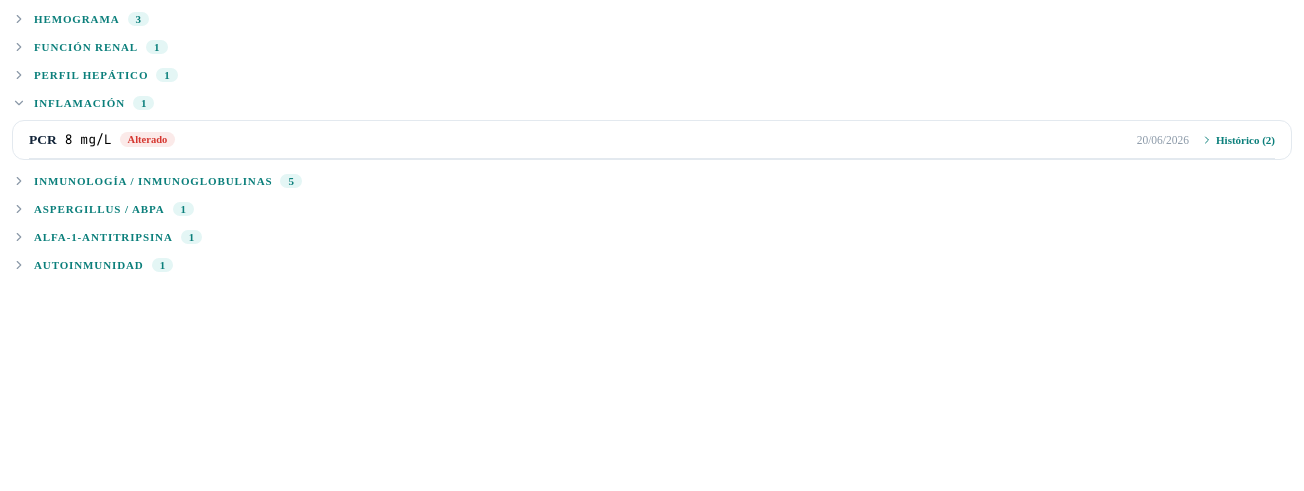
AnalyticsTab › muestra el badge de estado solo cuando el parámetro trae status explícito, con el color correspondiente ('alterado' en PCR, 'normal' en el resto del cribado eti
This screenshot has width=1304, height=491.
Check: the text "alterado" is shown, box 120,132 -> 175,147
Click the button "Inmunología / inmunoglobulinas 5" at (153, 181), box 12,174 -> 1292,188
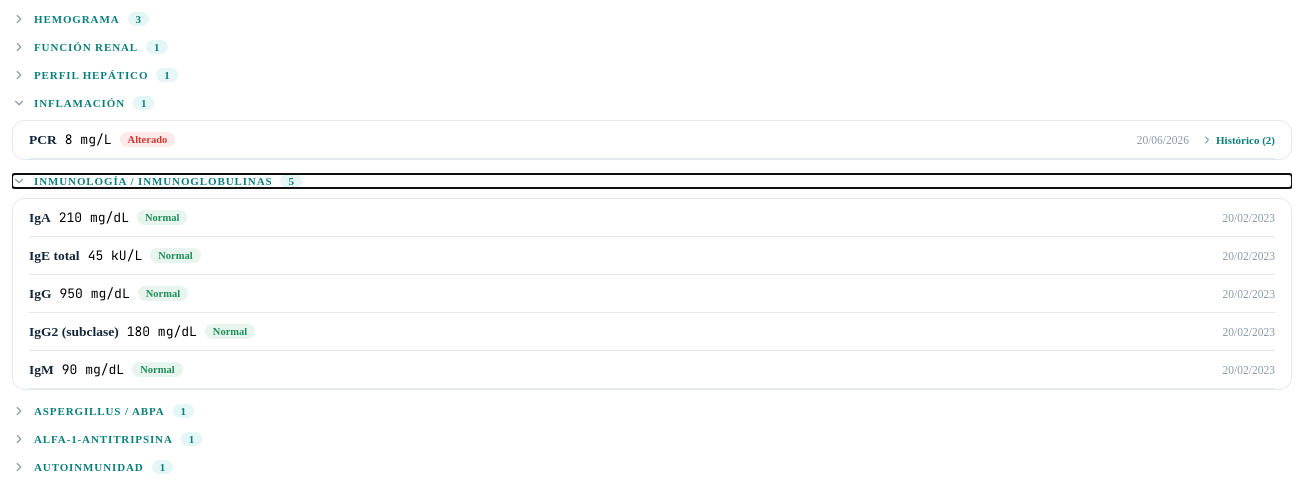
Check: the text "normal" next to "210 mg/dL" is shown, box 145,212 -> 179,223
